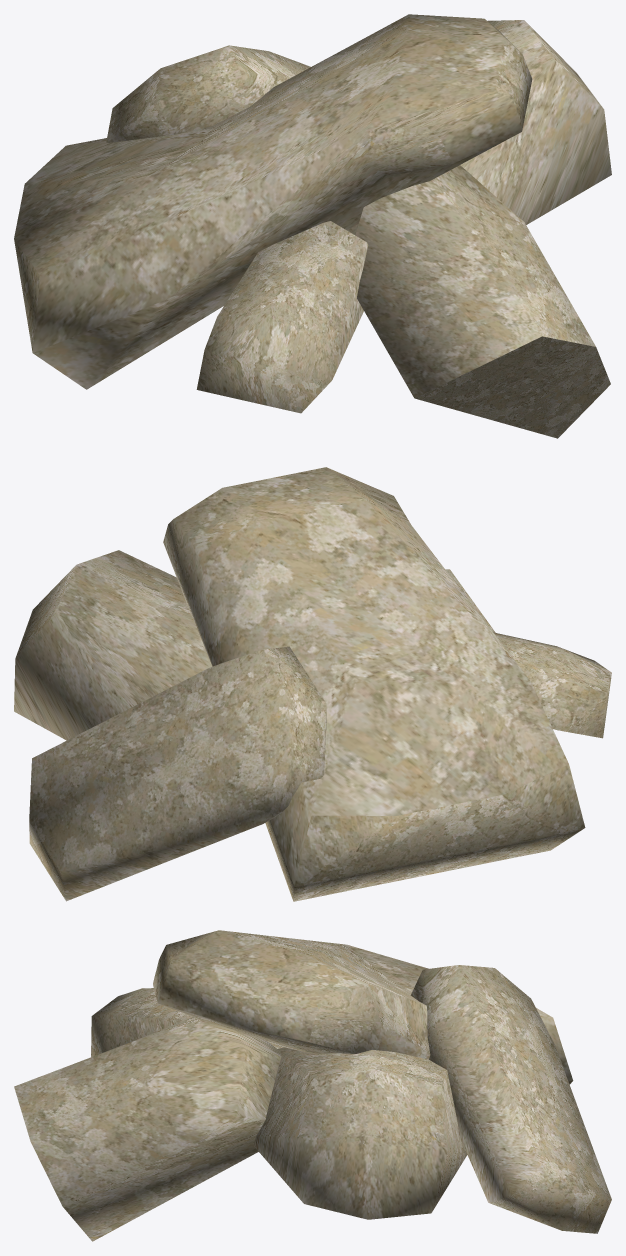
File: rock_formation_a2_l2.fbx
3 views of the same model, one above another, from view 1: azimuth 30°, elevation 25°; view 2: azimuth 150°, elevation 25°; view 3: azimuth 270°, elevation 25° (orthographic). The views are drawn at different scales.
Visible parts, largest first — view 1: mesh_node; view 2: mesh_node; view 3: mesh_node.
Part boxes in pixels (bbox=[...]): mesh_node: bbox=[14, 14, 611, 438]; mesh_node: bbox=[14, 467, 611, 901]; mesh_node: bbox=[14, 930, 611, 1241].
Size of the model in its own units: 11.04 by 5.77 by 11.4.
